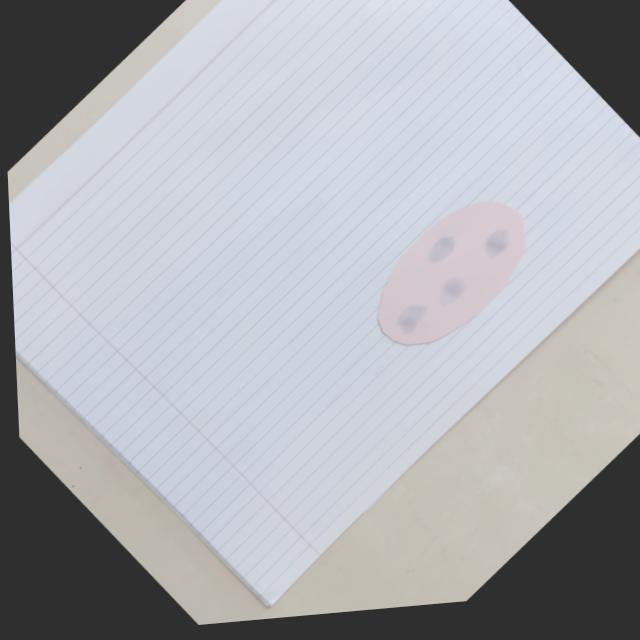BlueColor: (397, 305, 425, 333), (427, 235, 455, 262), (439, 277, 465, 305), (484, 229, 509, 256)
